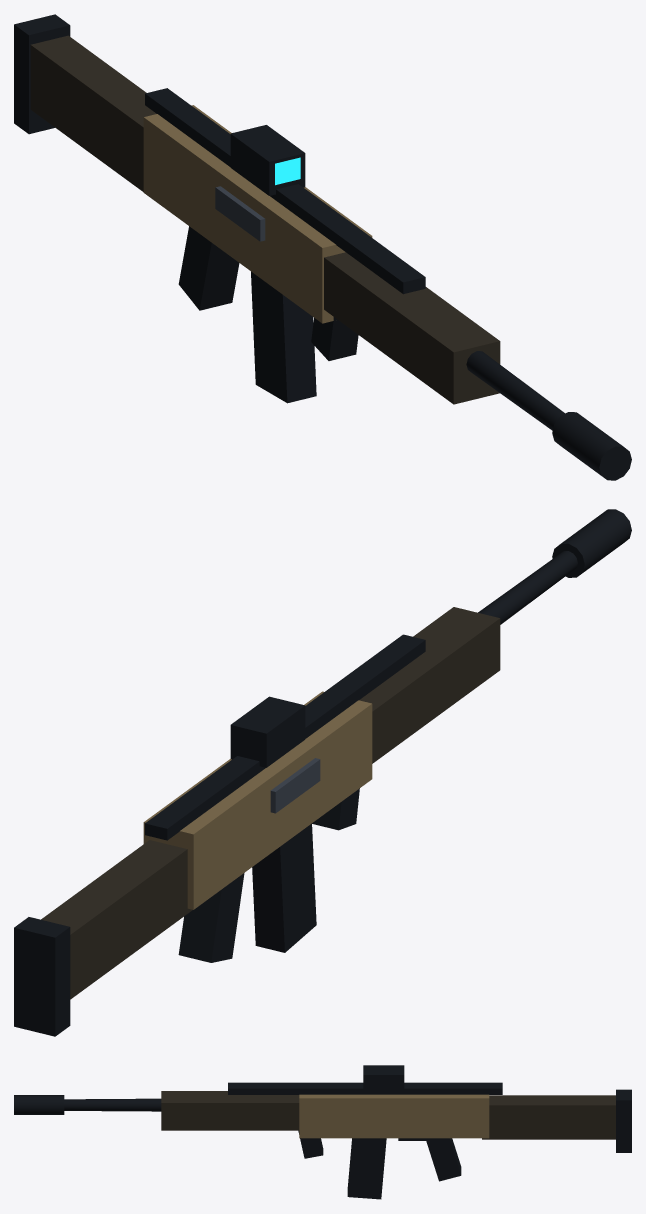
The model's file is scarl.glb.
3 views of the same model, one above another, from view 1: azimuth 30°, elevation 25°; view 2: azimuth 150°, elevation 25°; view 3: azimuth 270°, elevation 25° (orthographic). The views are drawn at different scales.
Parts seen in each view (by area): view 1: Weapon_scarl; view 2: Weapon_scarl; view 3: Weapon_scarl.
Part boxes in pixels (left/top/right/bottom): Weapon_scarl: left=14, top=14, right=631, bottom=480; Weapon_scarl: left=14, top=509, right=631, bottom=1036; Weapon_scarl: left=14, top=1065, right=631, bottom=1199.
Size of the model in its own units: 0.064 by 0.2623 by 1.17.
